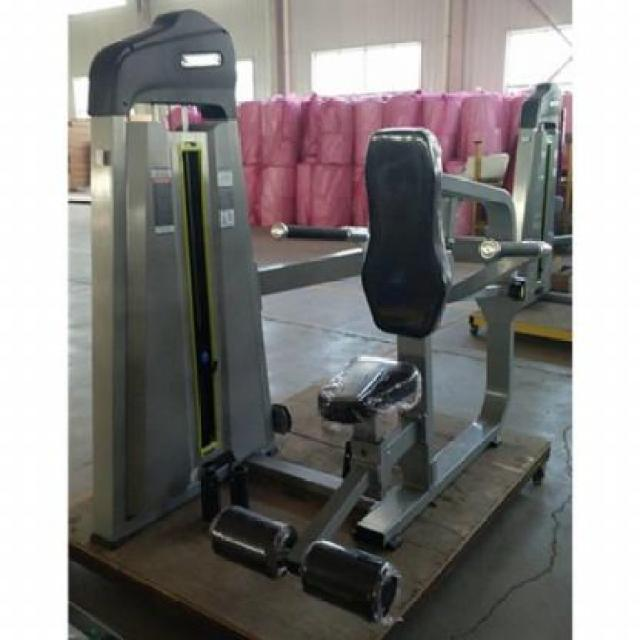seated dip machine: (92, 11, 548, 618)
